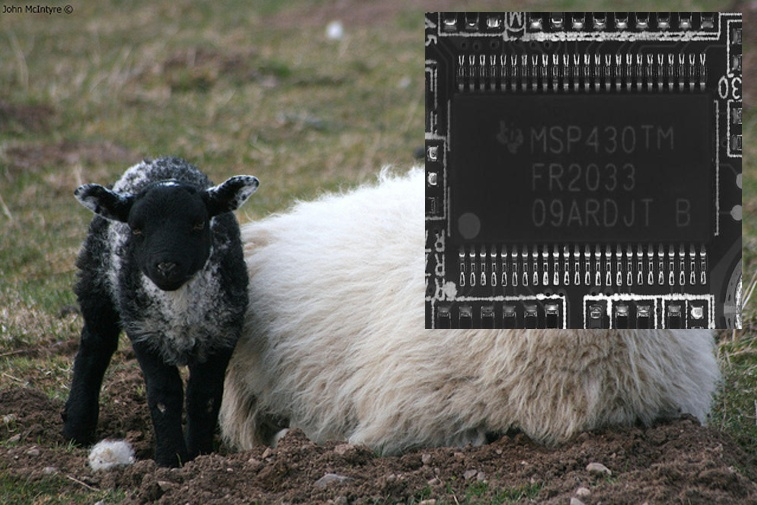PIN: (448, 44, 718, 106), (447, 230, 719, 290)
sheep: (221, 82, 719, 437), (62, 159, 260, 463)
